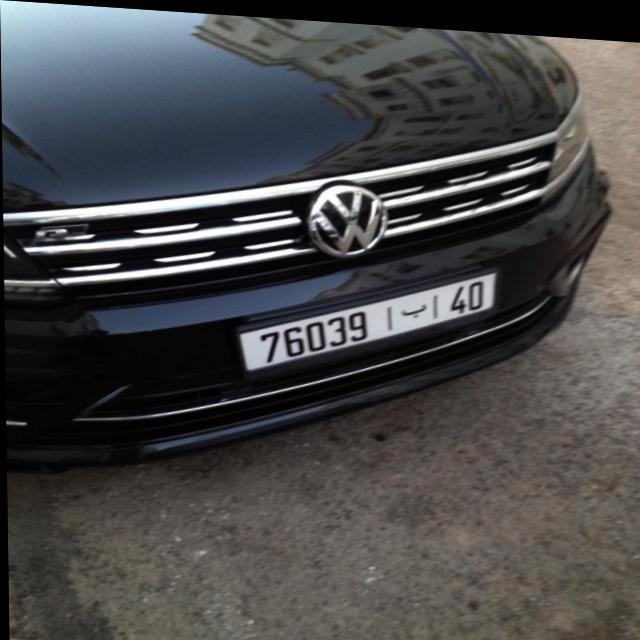License-Plate: (237, 266, 496, 368)
